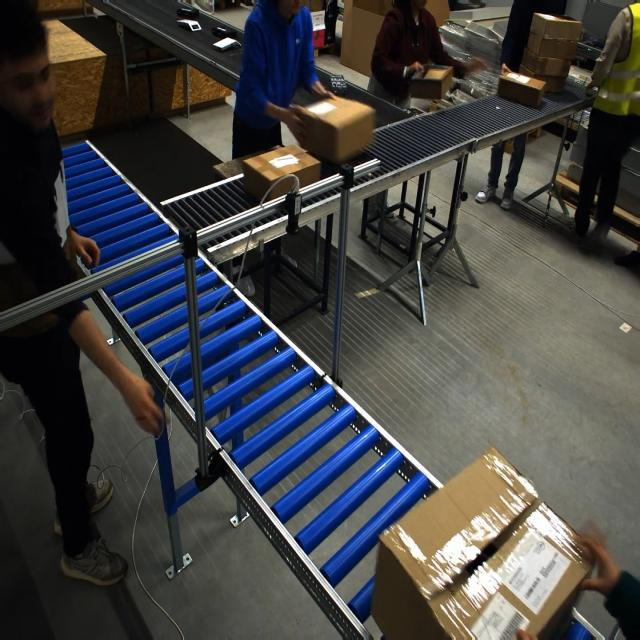box: (379, 450, 594, 640), (299, 95, 366, 163), (242, 144, 321, 200), (496, 71, 547, 109), (408, 66, 454, 101)
